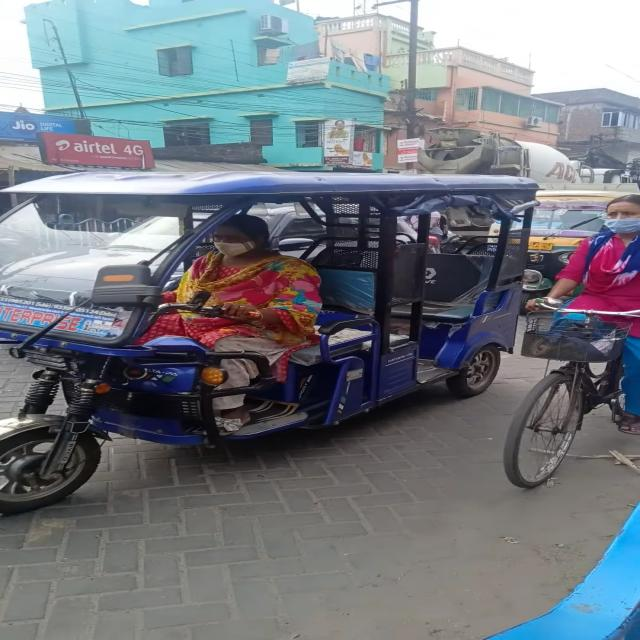Toto: (0, 142, 561, 515)
